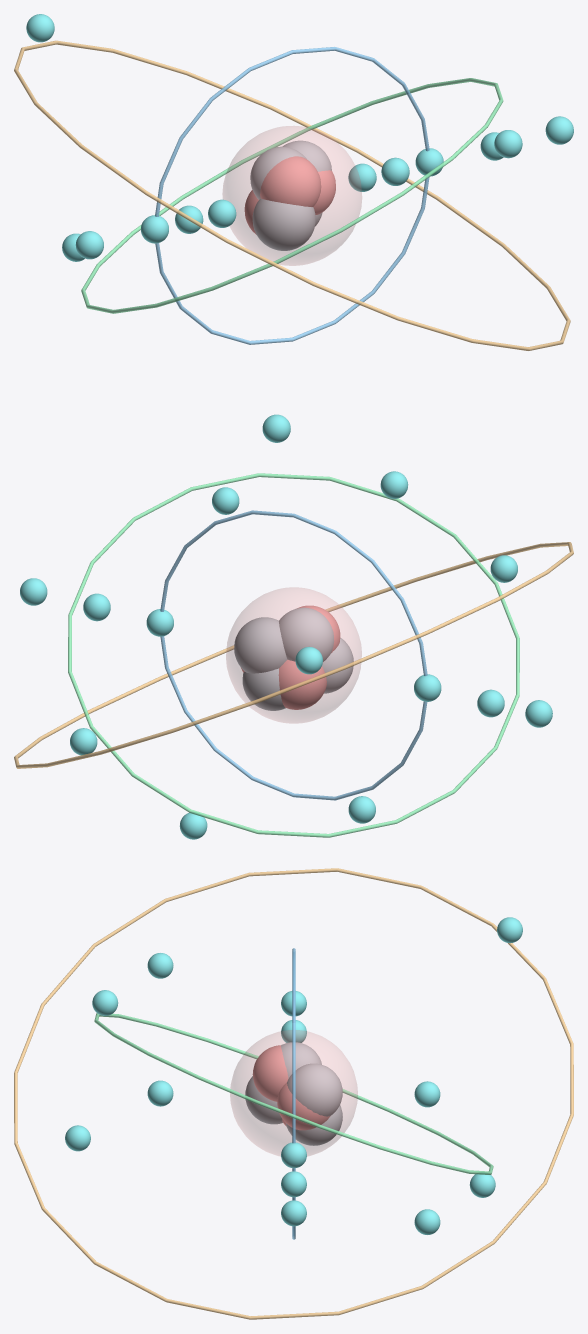
File: atom.glb
3 renders of one model, top to bottom at view 1: azimuth 30°, elevation 25°; view 2: azimuth 150°, elevation 25°; view 3: azimuth 270°, elevation 25°, orthographic. The views are drawn at different scales.
Visible parts, largest first — view 1: nucleus, electron_shell_3, electron_shell_2, electron_shell_1, neutron_3, proton_2, neutron_2, neutron_1, electron_3_2, electron_3_3, electron_2_4, electron_2_5 (+8 smaller); view 2: nucleus, electron_shell_2, electron_shell_3, electron_shell_1, neutron_1, neutron_2, proton_3, neutron_4, neutron_3, electron_2_4, electron_3_1, electron_2_1 (+10 smaller); view 3: nucleus, electron_shell_3, electron_shell_2, neutron_1, proton_2, proton_1, neutron_4, electron_shell_1, neutron_3, neutron_2.
Boxes of the visible parts, x1,y1,x2,y2 form: nucleus: (222,126,361,265); electron_shell_3: (14,40,570,350); electron_shell_2: (81,78,503,313); electron_shell_1: (155,47,429,344); neutron_3: (252,198,315,250); proton_2: (260,156,321,206); neutron_2: (250,146,306,199); neutron_1: (282,140,331,171); electron_3_2: (26,14,54,42); electron_3_3: (262,414,290,442); electron_2_4: (208,199,236,227); electron_2_5: (75,231,103,259); nucleus: (226,587,361,723); electron_shell_2: (68,473,519,837); electron_shell_3: (14,542,573,768); electron_shell_1: (160,510,427,800); neutron_1: (234,617,287,673); neutron_2: (279,607,334,661); proton_3: (278,659,326,709); neutron_4: (242,668,285,710); neutron_3: (322,637,353,693); electron_2_4: (490,555,517,582); electron_3_1: (20,578,47,605); electron_2_1: (83,593,110,621); nucleus: (230,1030,357,1156); electron_shell_3: (14,868,573,1319); electron_shell_2: (94,1013,493,1174); neutron_1: (287,1063,342,1116); proton_2: (252,1045,288,1101); proton_1: (277,1082,330,1130); neutron_4: (285,1105,342,1145); electron_shell_1: (292,948,295,1239); neutron_3: (245,1076,282,1124); neutron_2: (281,1042,321,1078).
Size of the model in its own units: 1.31 by 0.7032 by 1.34.
